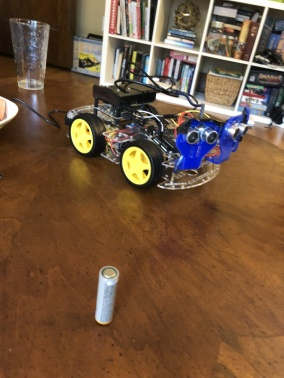battery: (89, 262, 124, 329)
